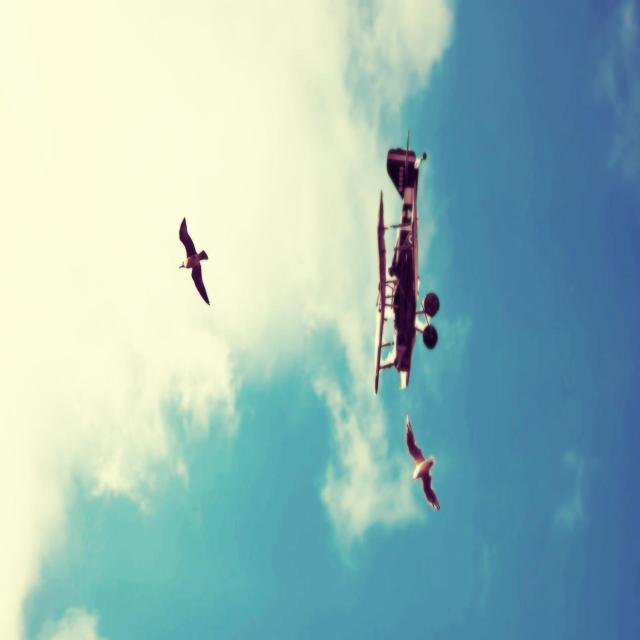airplane: (374, 128, 440, 394)
